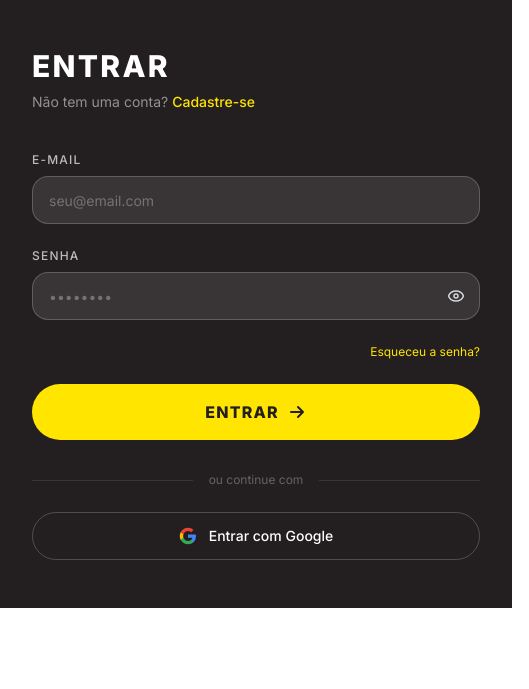
it: AuthLoginForm › mantém a mensagem genérica quando não há candidatura para retomar
In the field labelled "E-mail": (256, 200) [32, 176, 480, 224], type "ninguem@empresa.test"
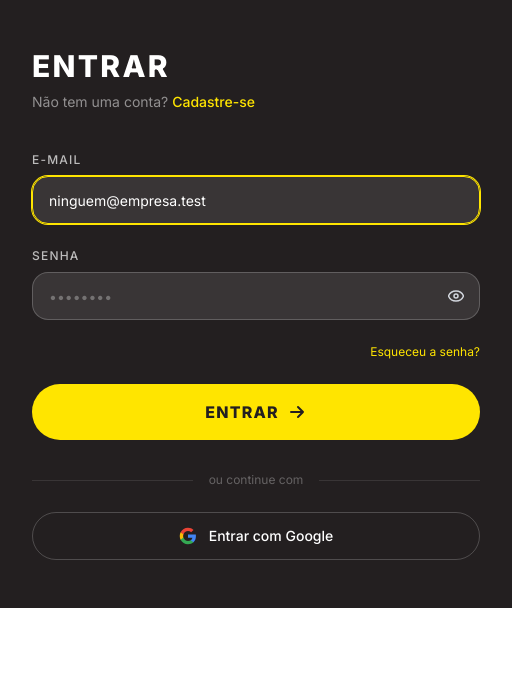
In the password field labelled "Senha": (256, 296) [32, 272, 480, 320], type "senha-qualquer"
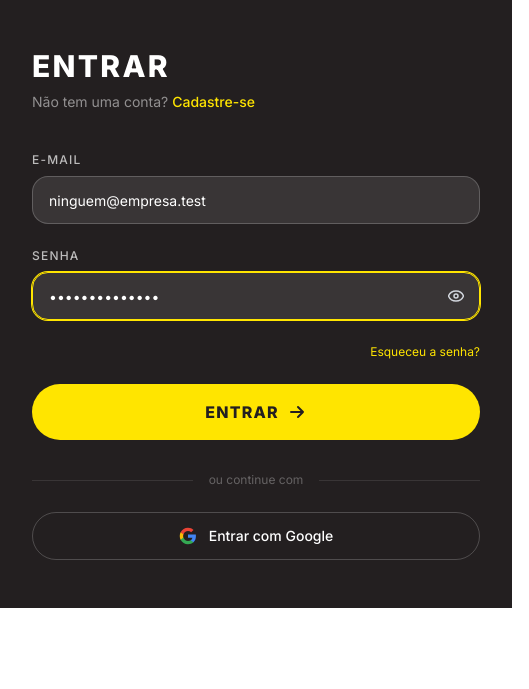
Click the button "Entrar": (256, 412) [32, 384, 480, 440]
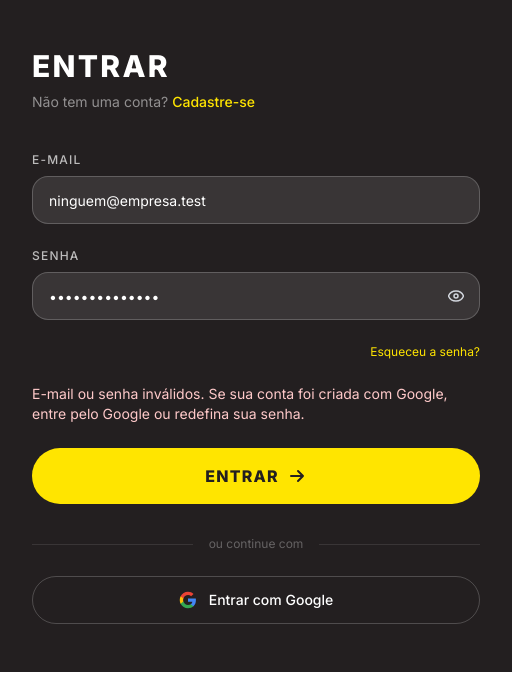
Result: the text "E-mail ou senha inválidos" is shown at [32, 385, 448, 422]
